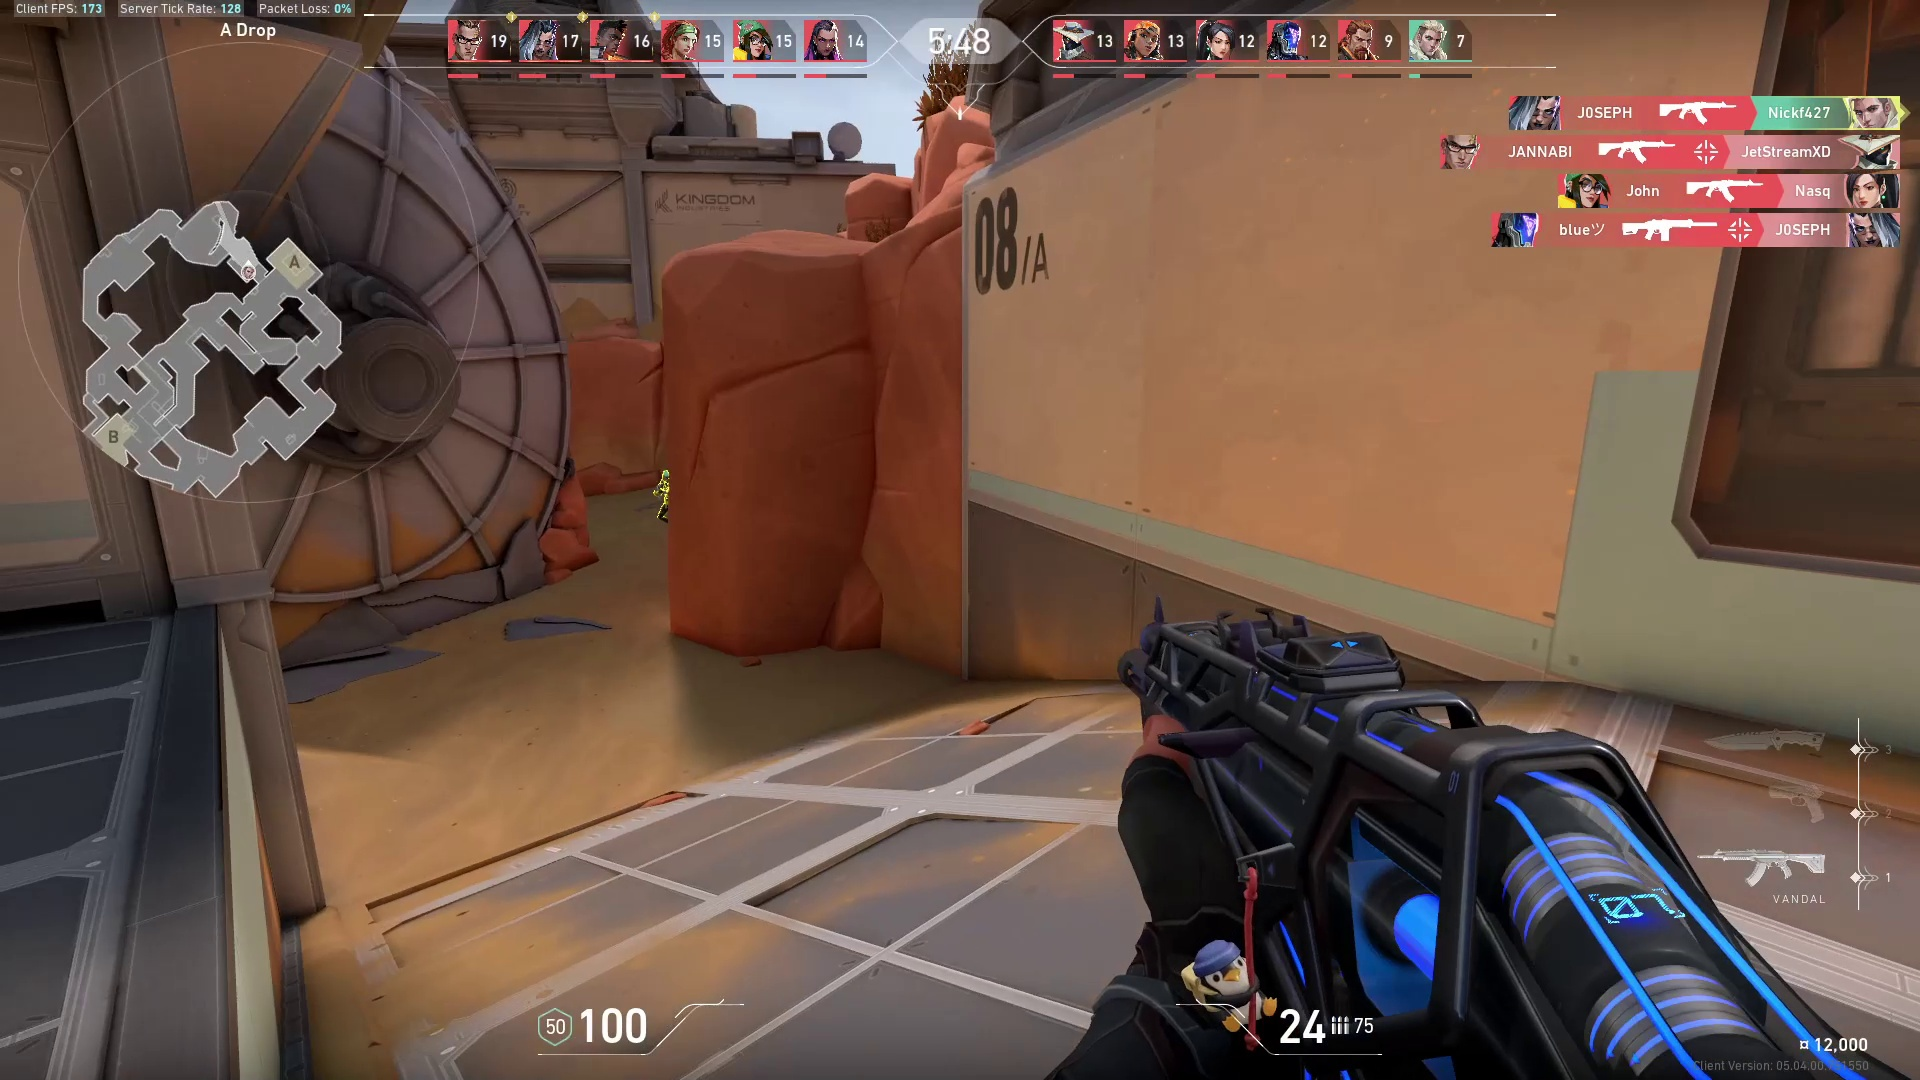enemy_body: (651, 483, 669, 524)
enemy_head: (659, 467, 673, 484)
